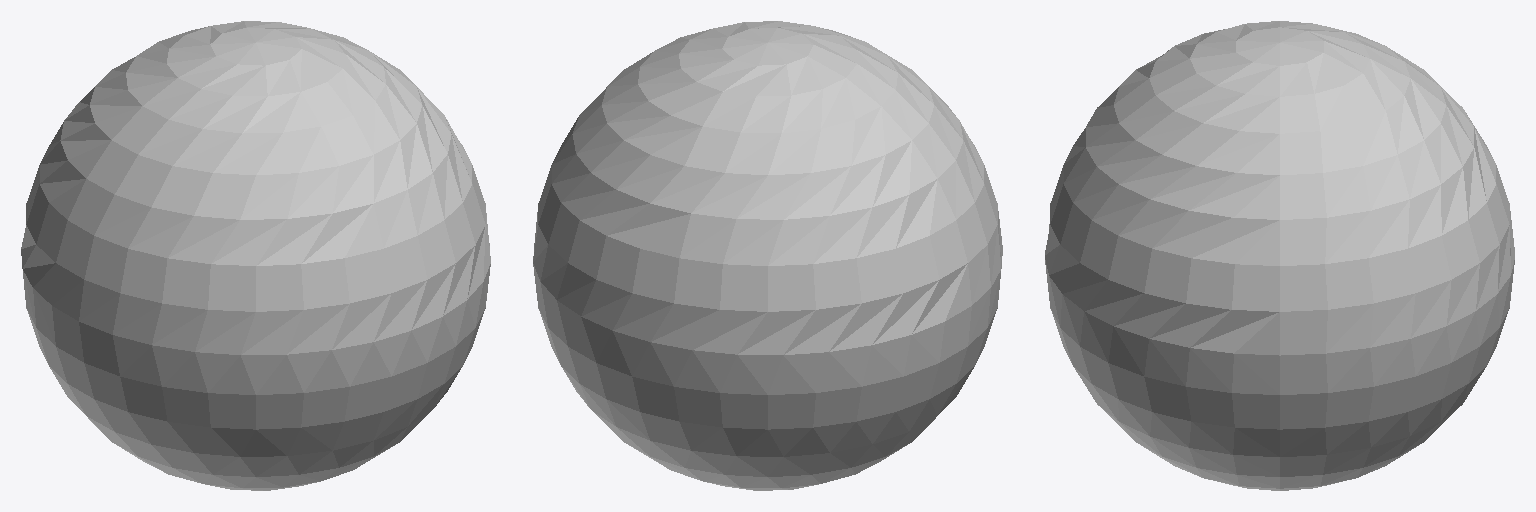
File: MiniMesh_OptimizedSphere.obj
The picture shows the model from 3 angles: view 1: azimuth 30°, elevation 25°; view 2: azimuth 150°, elevation 25°; view 3: azimuth 270°, elevation 25°; orthographic projection.
Parts seen in each view (by area): view 1: MiniMesh_OptimizedSphere; view 2: MiniMesh_OptimizedSphere; view 3: MiniMesh_OptimizedSphere.
Boxes of the visible parts, x1,y1,x2,y2 form: MiniMesh_OptimizedSphere: [21, 21, 490, 490]; MiniMesh_OptimizedSphere: [533, 21, 1002, 490]; MiniMesh_OptimizedSphere: [1045, 21, 1514, 490].
Size of the model in its own units: 1 by 1 by 1.